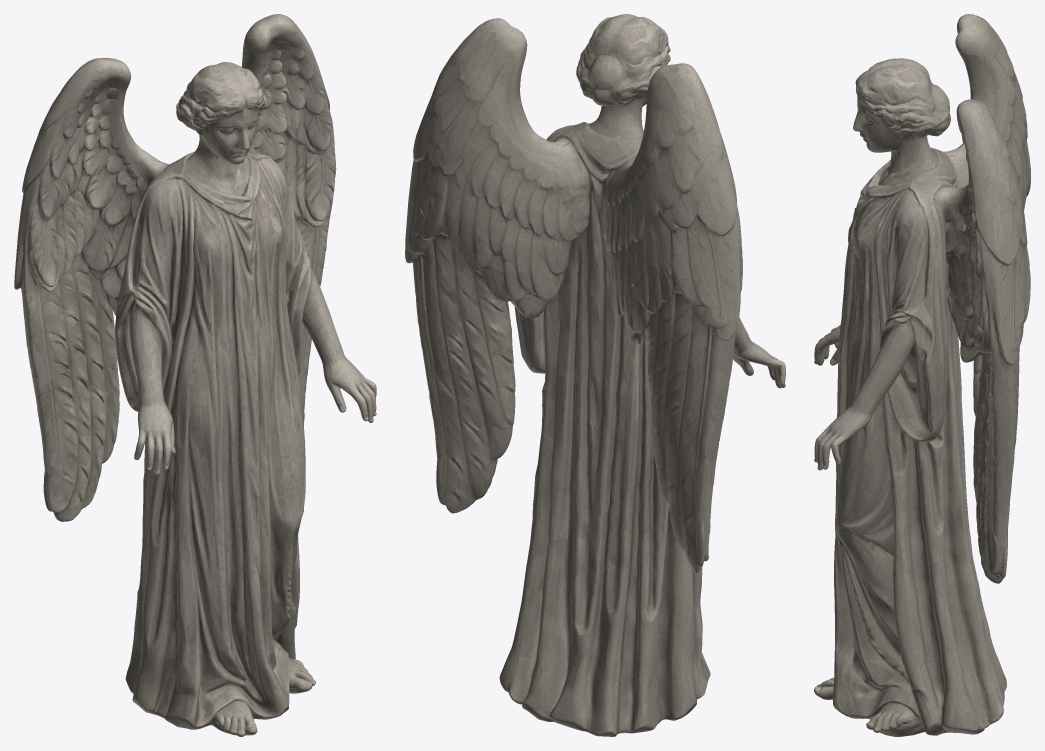
Rendered from angel-poses.glb.
The picture shows the model from 3 angles, left to right: view 1: azimuth 30°, elevation 25°; view 2: azimuth 150°, elevation 25°; view 3: azimuth 270°, elevation 25°; orthographic projection. The views are drawn at different scales.
Visible parts, largest first — view 1: char1; view 2: char1; view 3: char1.
Boxes of the visible parts, x1=… form: char1: x1=14, y1=14, x2=376, y2=736; char1: x1=405, y1=14, x2=785, y2=736; char1: x1=814, y1=14, x2=1030, y2=736.
Bounding box in the file's own units: 124 × 240 × 73.28.
Materials: 1 (1 with a texture image).
